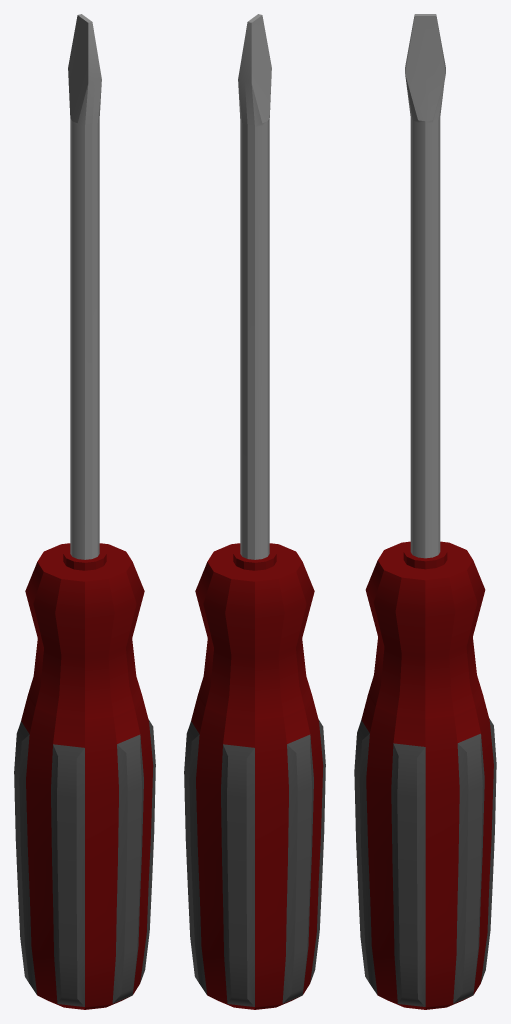
The model's file is Screwdriver.fbx.
3 renders of one model, left to right at view 1: azimuth 30°, elevation 25°; view 2: azimuth 150°, elevation 25°; view 3: azimuth 270°, elevation 25°, orthographic.
Parts seen in each view (by area): view 1: pCylinder1; view 2: pCylinder1; view 3: pCylinder1.
Part boxes in pixels (x1,y1,x2,y2): pCylinder1: [14, 14, 155, 1009]; pCylinder1: [184, 14, 325, 1009]; pCylinder1: [354, 14, 496, 1009].
Bounding box in the file's own units: 2.57 × 19.49 × 2.57.
